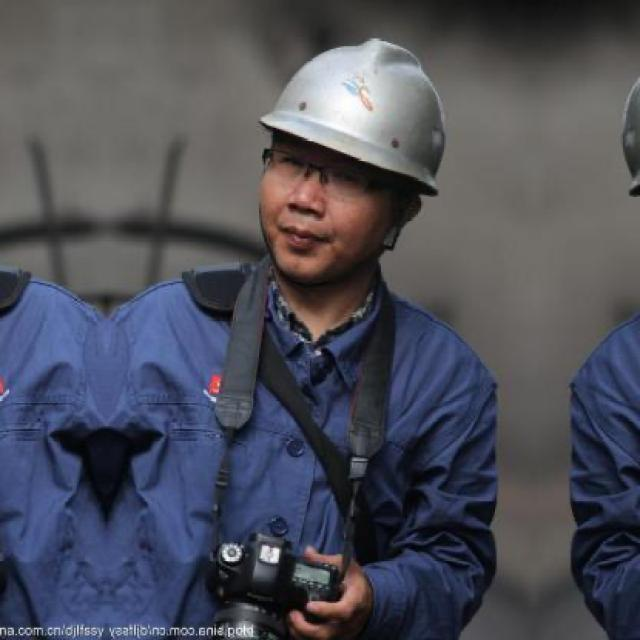con casco: (262, 28, 452, 212)
